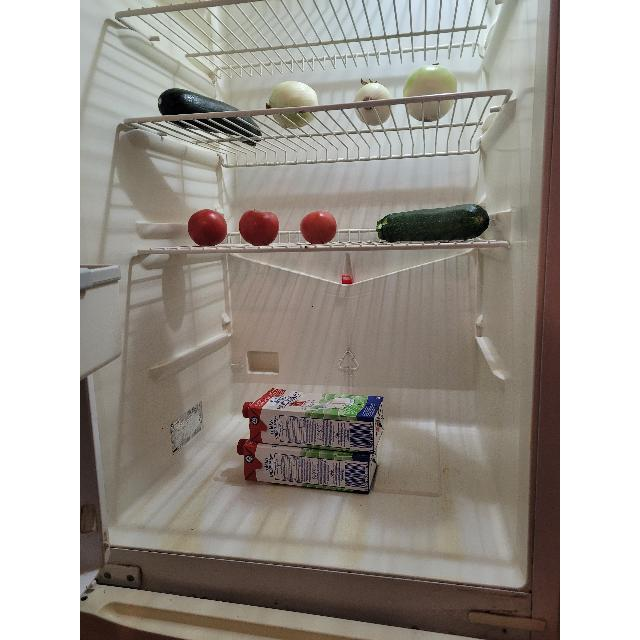milk: (243, 389, 387, 448), (244, 444, 378, 494)
onion: (402, 62, 456, 121), (266, 80, 320, 126), (354, 80, 394, 124)
tomato: (238, 210, 280, 247), (188, 209, 228, 247), (300, 212, 336, 244)
zucchini: (164, 88, 262, 142), (378, 204, 484, 242)
